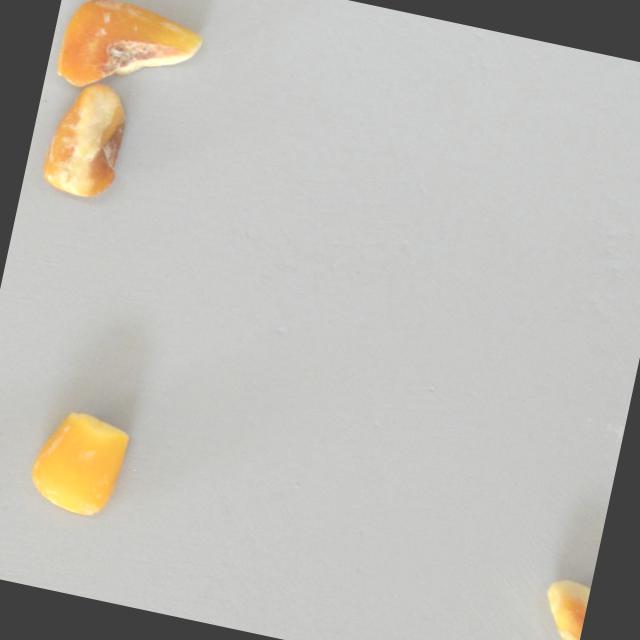dañado: (50, 0, 211, 111), (36, 72, 136, 204)
pelicula: (21, 391, 140, 527)
